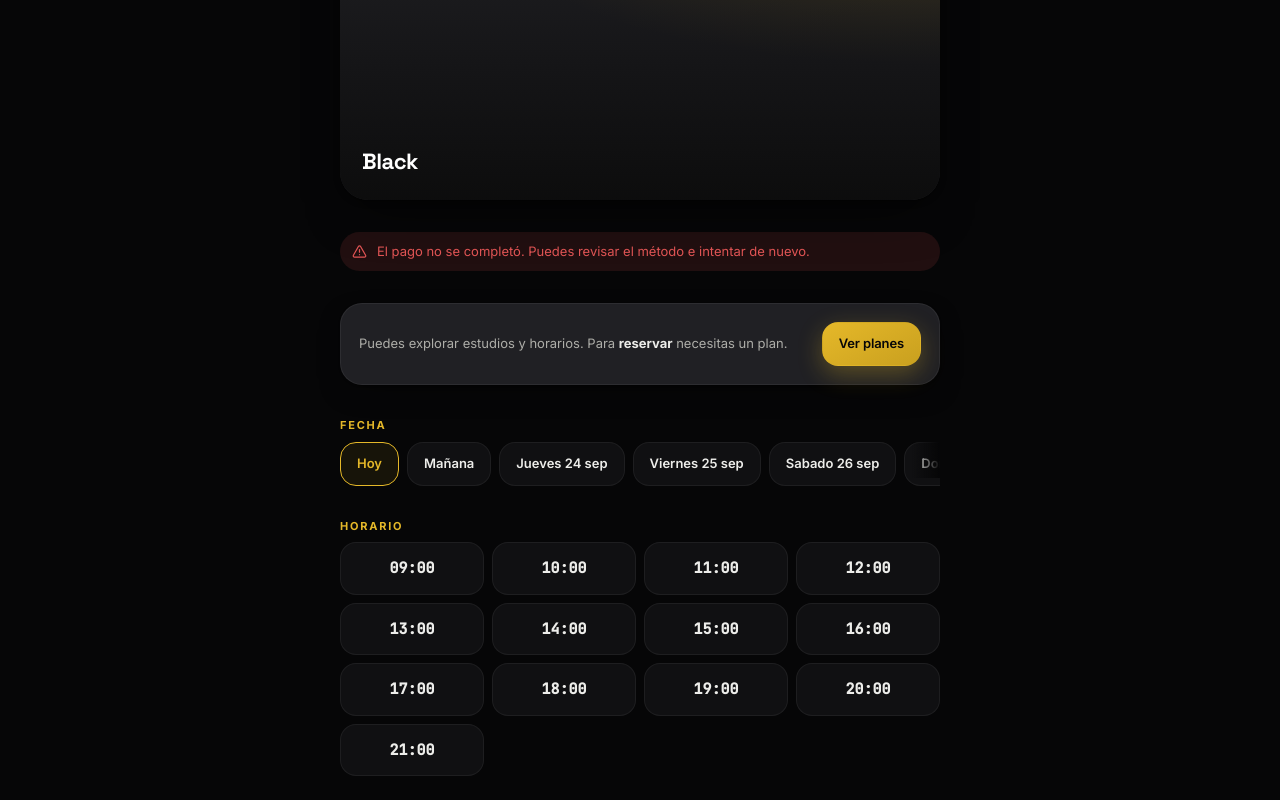
Test: Reservar · pago por hora veraz (PKG-02B) › 20 · retorno de redirect fallido → "El pago no se completó…" y se puede volver a intentar; sin pendiente
(page scrolled)
Expected: the text "El pago no se completó. Puedes revisar el método e intentar de nuevo." is shown, [377,242,810,258]
Expected: the button "09:00" is shown, [340,542,484,594]
Click the button "21:00".
click(412, 750)  # box [340,724,484,776]
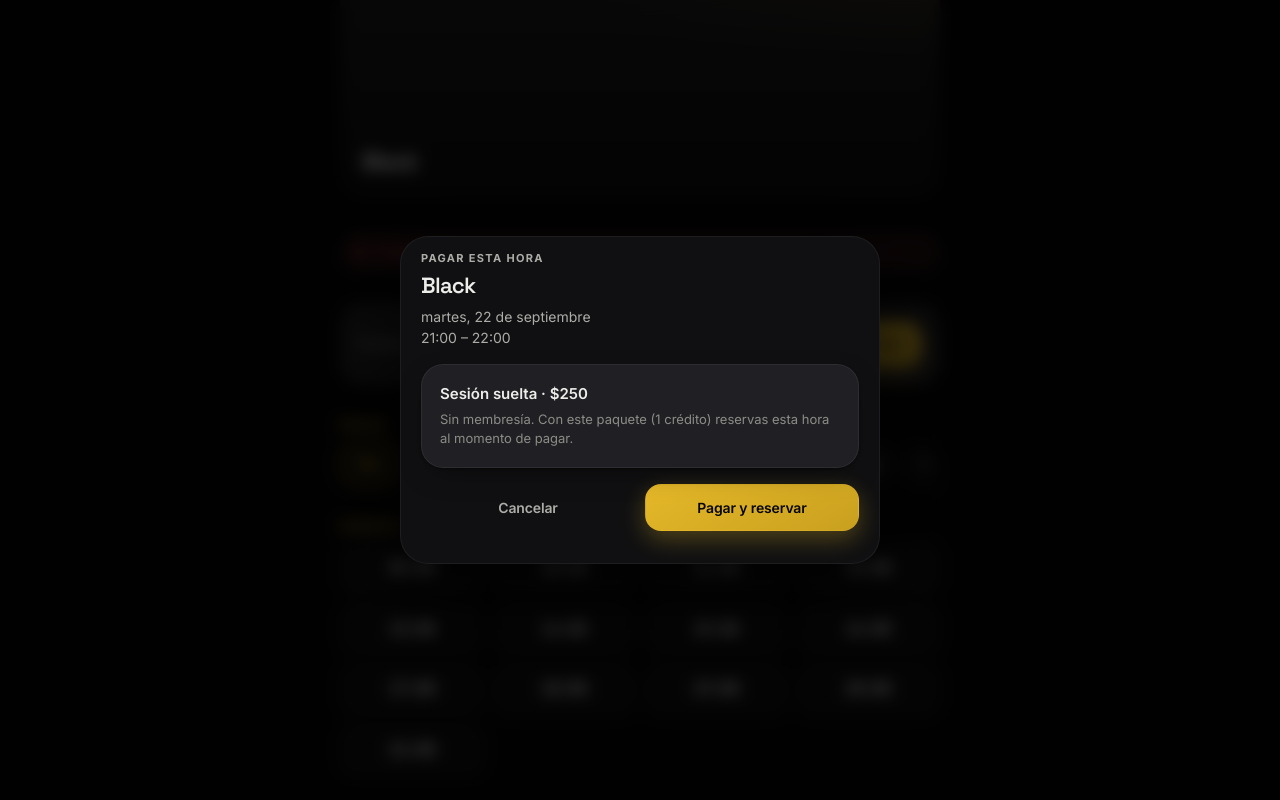
Expected: the dialog "PAGAR ESTA HORA" is shown, [400,236,880,564]
